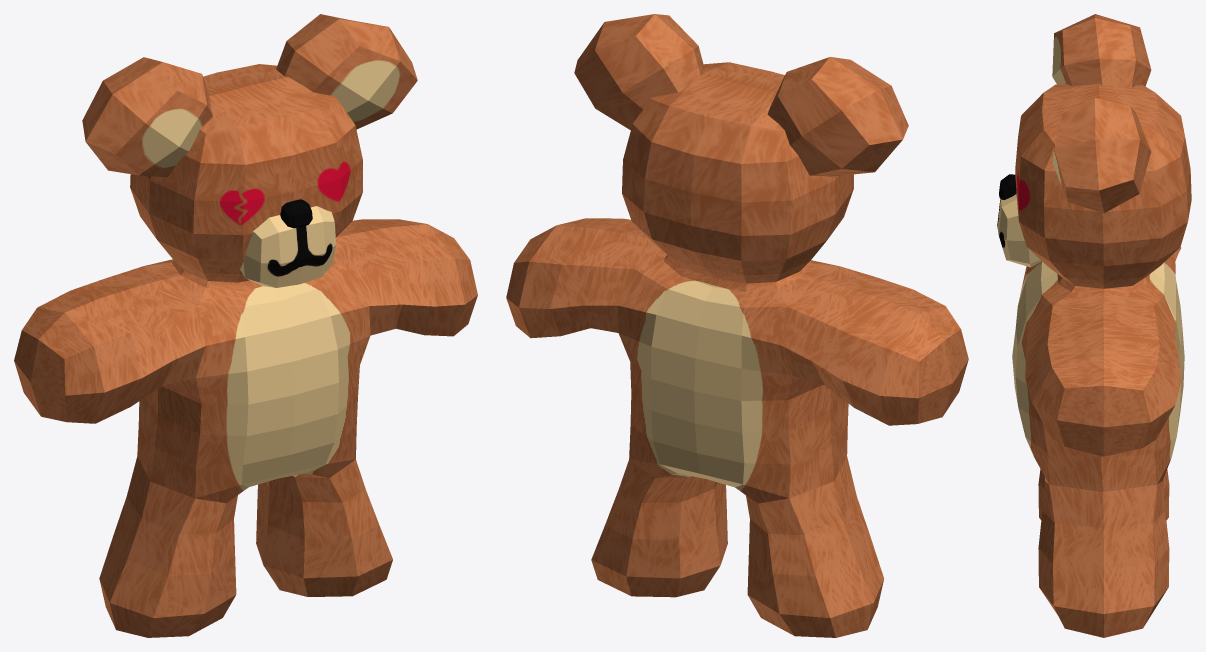
File: TeddyBear.fbx
The picture shows the model from 3 angles, left to right: view 1: azimuth 30°, elevation 25°; view 2: azimuth 150°, elevation 25°; view 3: azimuth 270°, elevation 25°; orthographic projection. The views are drawn at different scales.
Visible parts, largest first — view 1: Bear; view 2: Bear; view 3: Bear.
Boxes of the visible parts, x1=… form: Bear: x1=14, y1=14, x2=477, y2=637; Bear: x1=506, y1=14, x2=968, y2=637; Bear: x1=997, y1=14, x2=1191, y2=637.
Bounding box in the file's own units: 54.18 × 68.52 × 22.76.
Materials: 1 (1 with a texture image).
